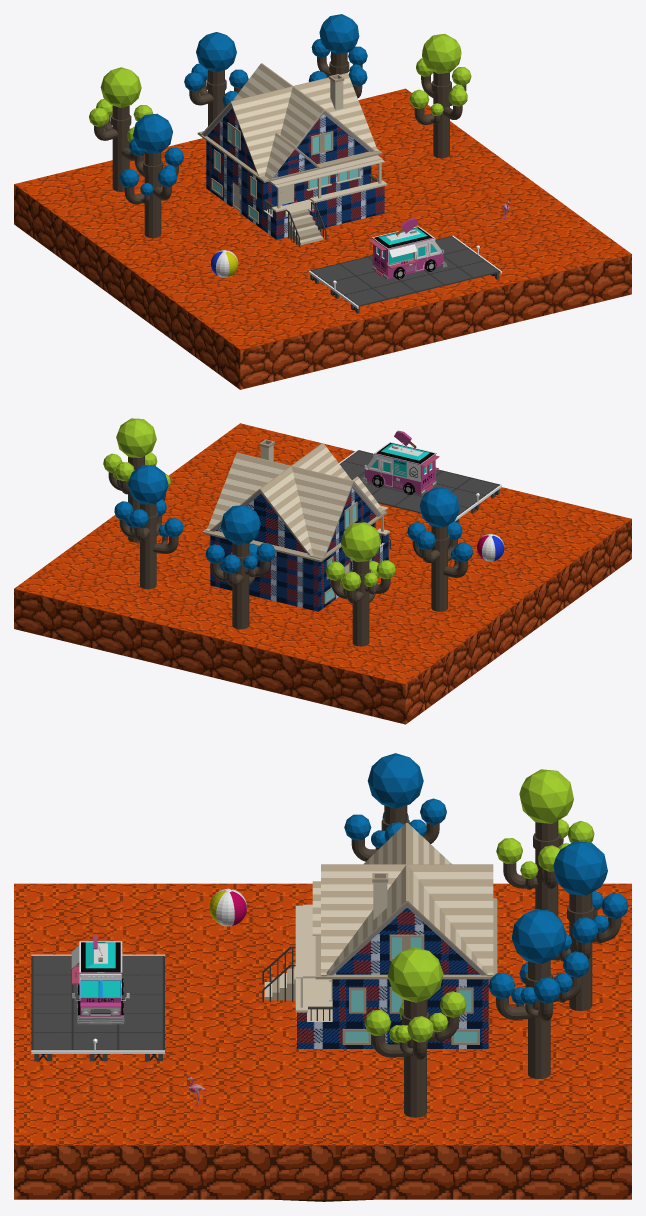
The picture shows the model from 3 angles, top to bottom: view 1: azimuth 30°, elevation 25°; view 2: azimuth 150°, elevation 25°; view 3: azimuth 270°, elevation 25°; orthographic projection. The views are drawn at different scales.
Parts seen in each view (by area): view 1: Cube.001, Cube.171, VEHICLES_ICE_CREAM_TRUCK, OBJRANDOM_BEACHBALL; view 2: Cube.001, Cube.171, VEHICLES_ICE_CREAM_TRUCK, OBJRANDOM_BEACHBALL; view 3: Cube.001, Cube.171, VEHICLES_ICE_CREAM_TRUCK, OBJRANDOM_BEACHBALL.
Boxes of the visible parts, bbox=[...] form: Cube.001: bbox=[14, 14, 631, 389]; Cube.171: bbox=[197, 63, 387, 246]; VEHICLES_ICE_CREAM_TRUCK: bbox=[369, 218, 447, 279]; OBJRANDOM_BEACHBALL: bbox=[211, 250, 238, 277]; Cube.001: bbox=[14, 418, 631, 724]; Cube.171: bbox=[202, 439, 390, 611]; VEHICLES_ICE_CREAM_TRUCK: bbox=[361, 430, 439, 494]; OBJRANDOM_BEACHBALL: bbox=[477, 534, 504, 561]; Cube.001: bbox=[14, 753, 631, 1199]; Cube.171: bbox=[262, 823, 497, 1048]; VEHICLES_ICE_CREAM_TRUCK: bbox=[71, 934, 129, 1024]; OBJRANDOM_BEACHBALL: bbox=[209, 888, 246, 926].
Bounding box in the file's own units: 4000 × 1730 × 4000.
Materials: 43 (5 with a texture image).
